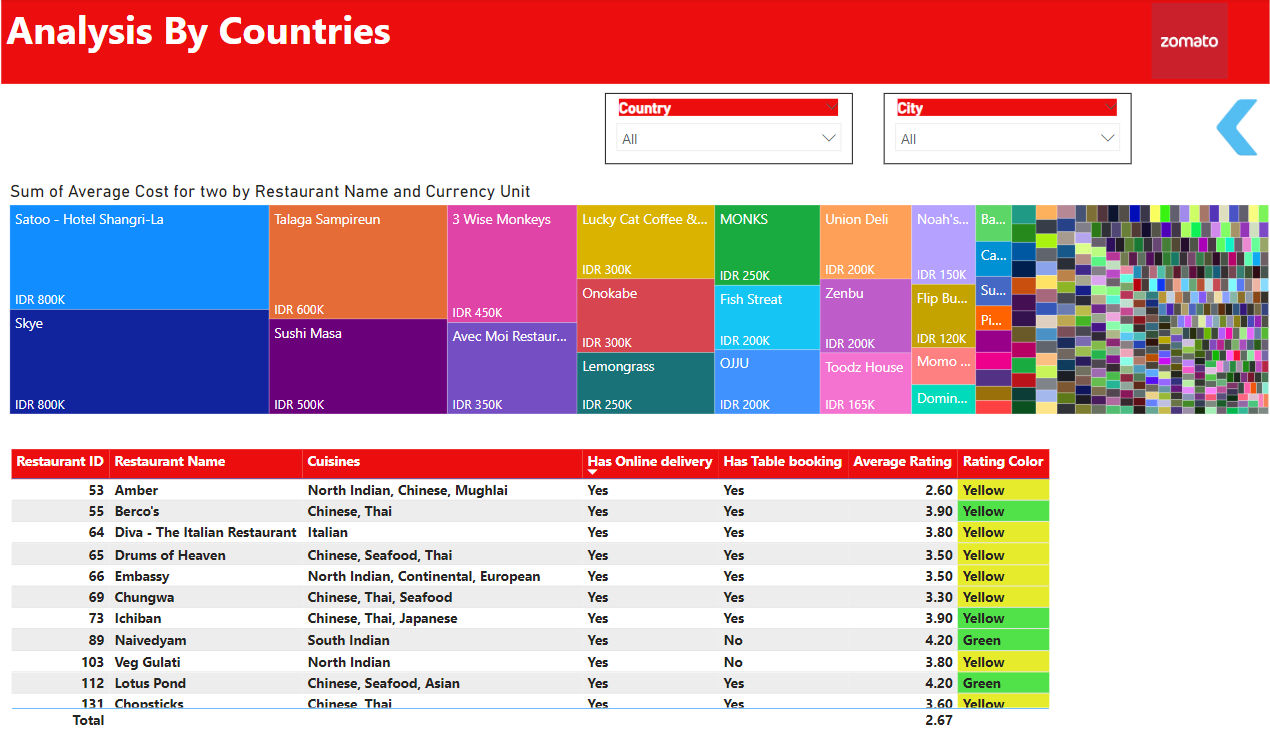

What the dashboard file says about the page in this screenshot:
{"tool":"powerbi","page":{"name":"Analysis by Countries","canvas":[1280,720],"ordinal":1},"visuals":[{"type":"slicer","fields":{"Values":["Country Code.Country"]},"box":[606.5,92.9,242.1,69.7],"z":0},{"type":"slicer","fields":{"Values":["Our Presence.City"]},"box":[879.2,92.9,242.1,69.7],"z":1000},{"type":"textbox","box":[15.9,0,1241.2,84.4],"z":2000},{"type":"image","box":[1134.8,0,86.8,84.4],"z":3000},{"type":"treemap","fields":{"Group":["Our Presence.Restaurant Name"],"Details":["Fact.Currency Unit"],"Values":["Sum(Fact.Average Cost for two)"]},"box":[19.6,178.5,1241.2,233.6],"z":4000},{"type":"tableEx","fields":{"Values":["Our Presence.Restaurant ID","Our Presence.Restaurant Name","Our Presence.Cuisines","Fact.Has Online delivery","Fact.Has Table booking","Fact.Average Rating","Fact.Rating Color"]},"box":[19.6,436.6,1260.7,283.7],"z":5000},{"type":"image","box":[1192.3,94.2,64.8,64.8],"z":6000}]}

Visuals, with their boxes in screenshot pixels (x1, y1, x2, y2), scaled from the page's 1280x720 canvas onto the 1270x732 screenshot:
slicer - Country Code.Country: x1=602, y1=94, x2=842, y2=165
slicer - Our Presence.City: x1=872, y1=94, x2=1113, y2=165
textbox: x1=16, y1=0, x2=1247, y2=86
image: x1=1126, y1=0, x2=1212, y2=86
treemap - Our Presence.Restaurant Name x Fact.Currency Unit: x1=19, y1=181, x2=1251, y2=419
tableEx - Our Presence.Restaurant ID x Our Presence.Restaurant Name: x1=19, y1=444, x2=1269, y2=731
image: x1=1183, y1=96, x2=1247, y2=162
